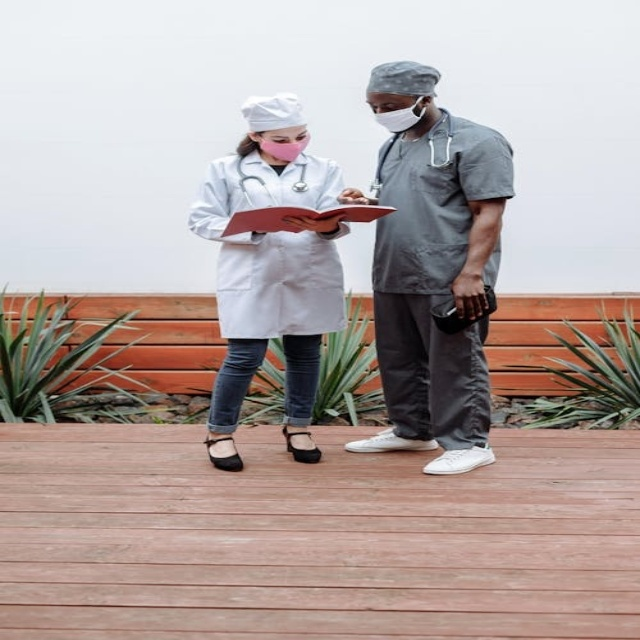Mascara: (372, 97, 428, 133), (257, 134, 309, 162)
Sin_gafas: (257, 130, 310, 145), (365, 98, 399, 112)
Sin_guantes: (448, 270, 489, 321), (281, 213, 337, 234), (332, 183, 374, 209)
